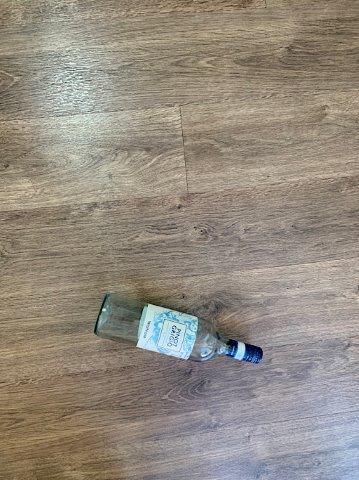botolkaca: (94, 294, 265, 364)
